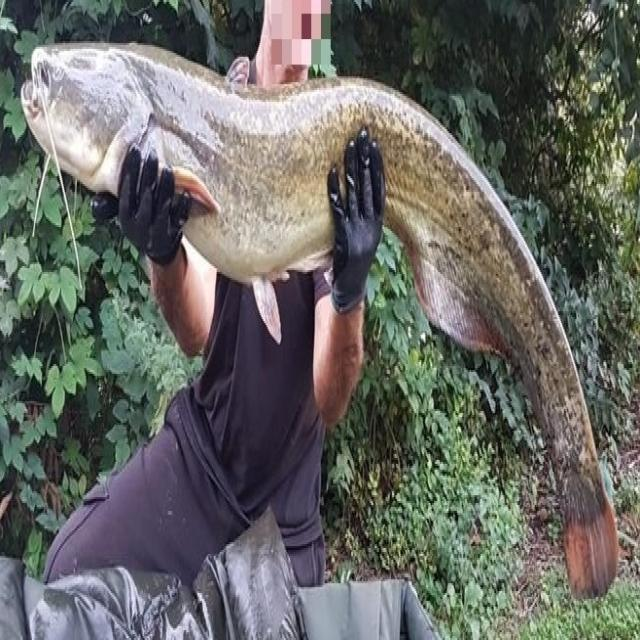Catfish: (21, 29, 622, 614)
